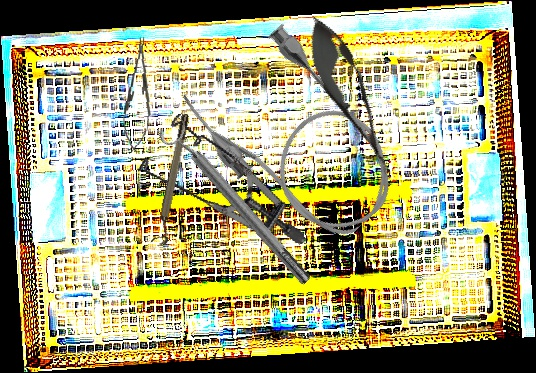Cannula: (172, 13, 419, 267)
Fixation Ring: (154, 112, 319, 294), (150, 112, 197, 248)
Micro Scissor: (293, 7, 409, 186)
Needle Holder: (120, 35, 157, 154)
Speculum: (124, 87, 307, 292)
